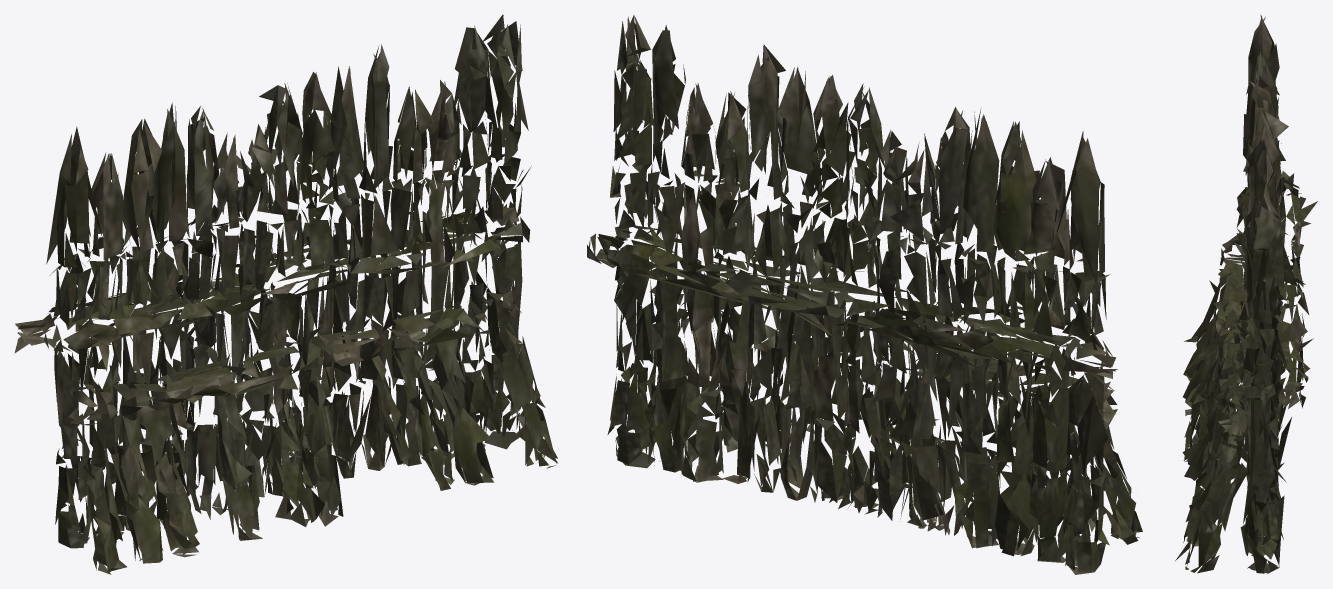
The model's file is palisade.glb.
The picture shows the model from 3 angles, left to right: view 1: azimuth 30°, elevation 25°; view 2: azimuth 150°, elevation 25°; view 3: azimuth 270°, elevation 25°; orthographic projection. The views are drawn at different scales.
Visible parts, largest first — view 1: Mesh_0; view 2: Mesh_0; view 3: Mesh_0.
Boxes of the visible parts, x1,y1,x2,y2 form: Mesh_0: (14, 14, 558, 574); Mesh_0: (587, 15, 1142, 574); Mesh_0: (1175, 14, 1317, 573).
Size of the model in its own units: 4.36 by 3.59 by 1.22.
1 material, 1 textured.
